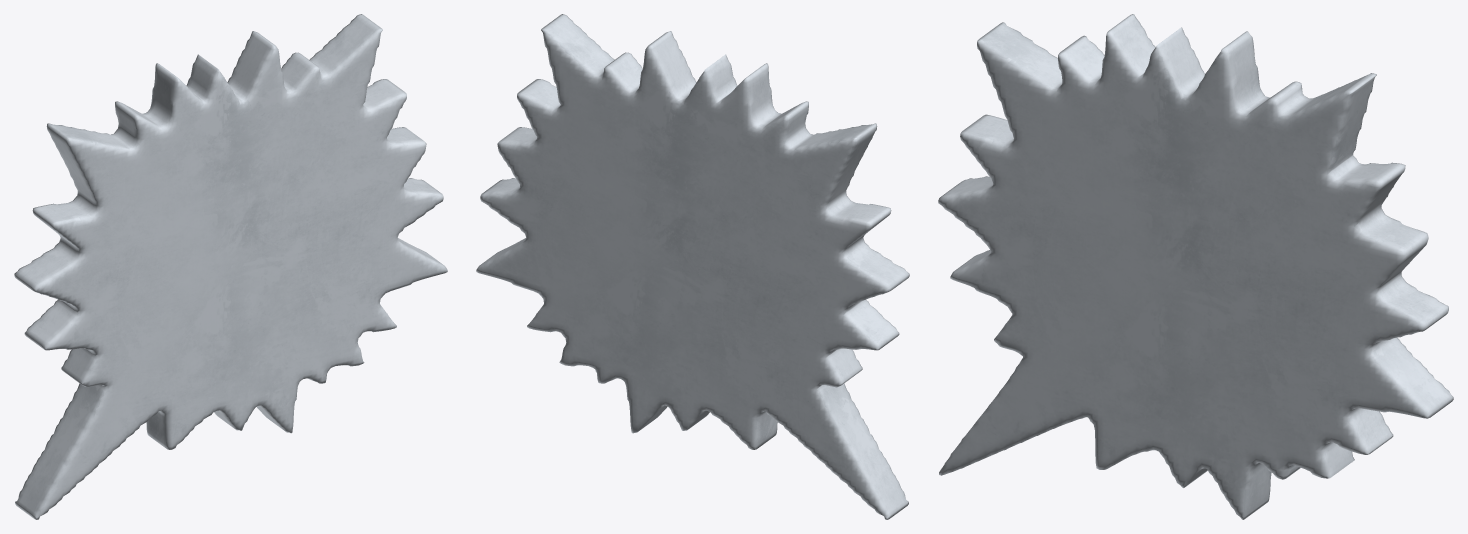
Rendered from metal.glb.
3 renders of one model, left to right at view 1: azimuth 30°, elevation 25°; view 2: azimuth 150°, elevation 25°; view 3: azimuth 330°, elevation 25°, orthographic. The views are drawn at different scales.
Visible parts, largest first — view 1: Curve; view 2: Curve; view 3: Curve.
Part boxes in pixels (x1=…): Curve: x1=14, y1=14, x2=447, y2=519; Curve: x1=476, y1=14, x2=909, y2=519; Curve: x1=938, y1=14, x2=1453, y2=519.
Bounding box in the file's own units: 4.08 × 3.93 × 0.4.
Materials: 1 (1 with a texture image).
